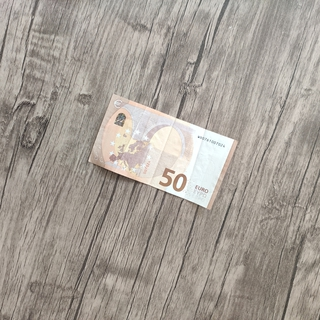50EUROBack: (86, 93, 238, 213)
